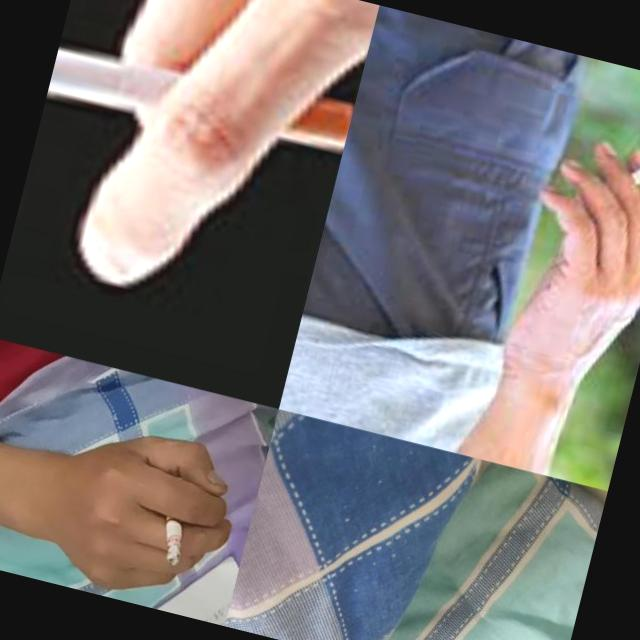smoke: (46, 30, 354, 172), (150, 502, 192, 568), (618, 137, 640, 199)
